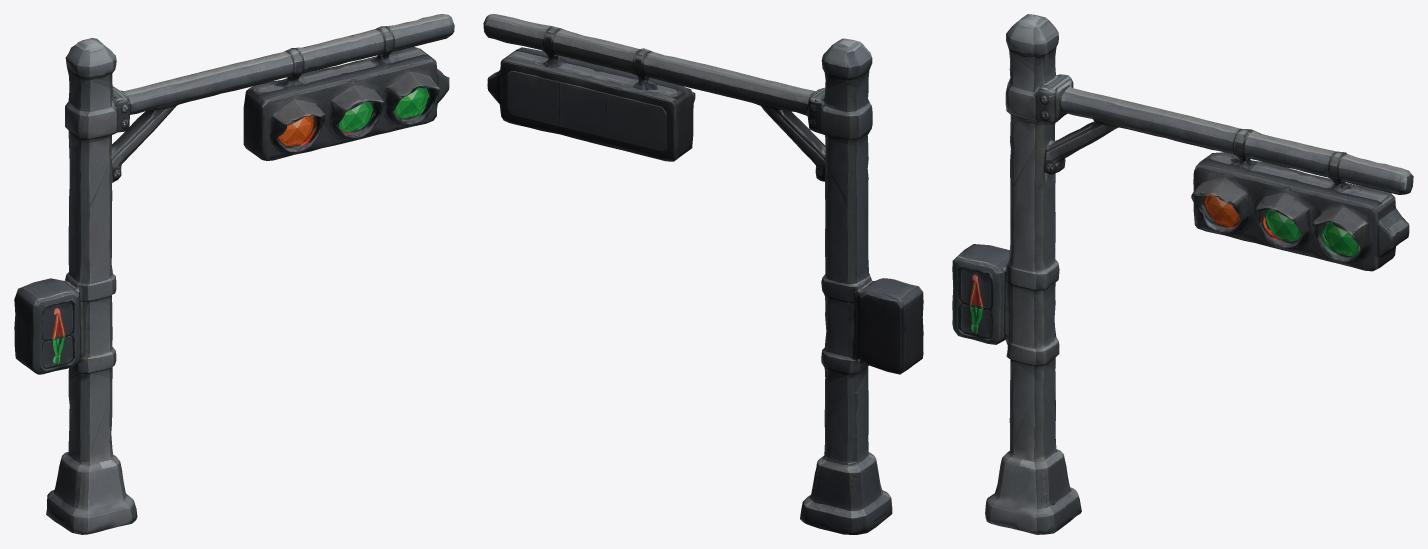
File: TrafficLight_01.glb
The picture shows the model from 3 angles, left to right: view 1: azimuth 30°, elevation 25°; view 2: azimuth 150°, elevation 25°; view 3: azimuth 330°, elevation 25°; orthographic projection. The views are drawn at different scales.
Visible parts, largest first — view 1: texture_mapping; view 2: texture_mapping; view 3: texture_mapping.
Boxes of the visible parts, x1,y1,x2,y2 form: texture_mapping: (14,14,454,534); texture_mapping: (483,14,923,534); texture_mapping: (952,14,1413,534).
Size of the model in its own units: 0.9452 by 1 by 0.163.
1 material, 1 textured.
